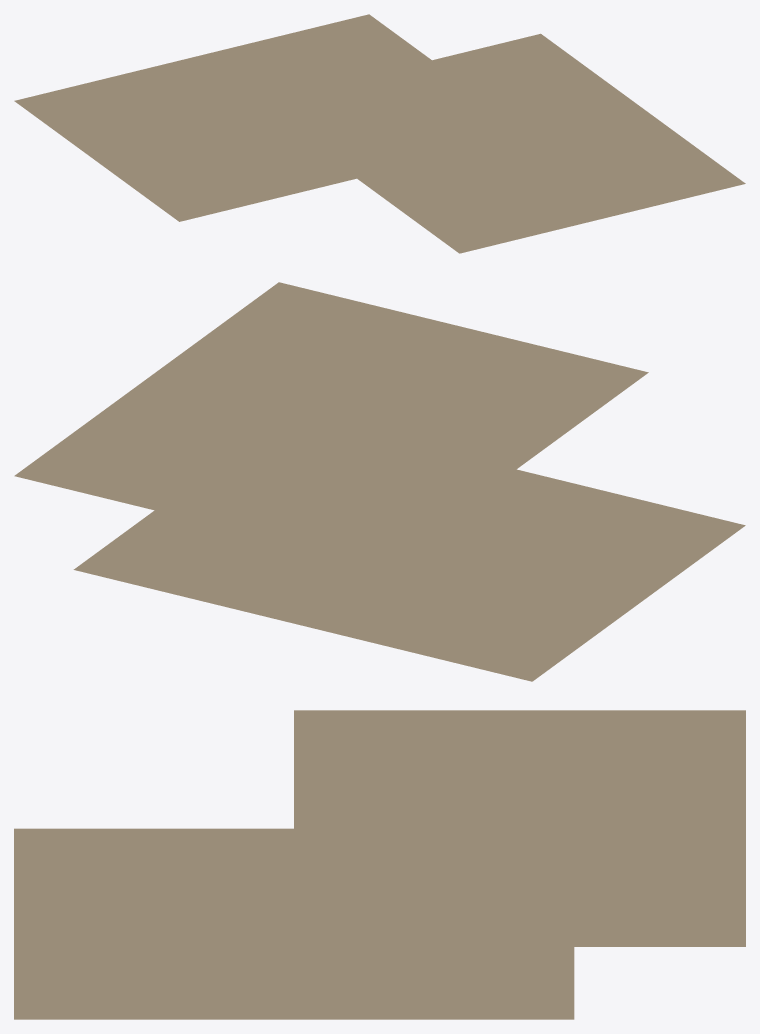
The model's file is road_dirt_curve.glb.
3 renders of one model, top to bottom at view 1: azimuth 30°, elevation 25°; view 2: azimuth 150°, elevation 25°; view 3: azimuth 270°, elevation 25°, orthographic. The views are drawn at different scales.
Parts seen in each view (by area): view 1: Plane, Plane.001; view 2: Plane.001, Plane; view 3: Plane, Plane.001.
Part boxes in pixels (<box>): Plane: <box>14,14,531,221</box>; Plane.001: <box>256,33,745,253</box>; Plane.001: <box>14,282,648,566</box>; Plane: <box>73,413,745,681</box>; Plane: <box>294,710,745,946</box>; Plane.001: <box>14,828,574,1019</box>.
Size of the model in its own units: 1.62 by 0 by 1.62.
